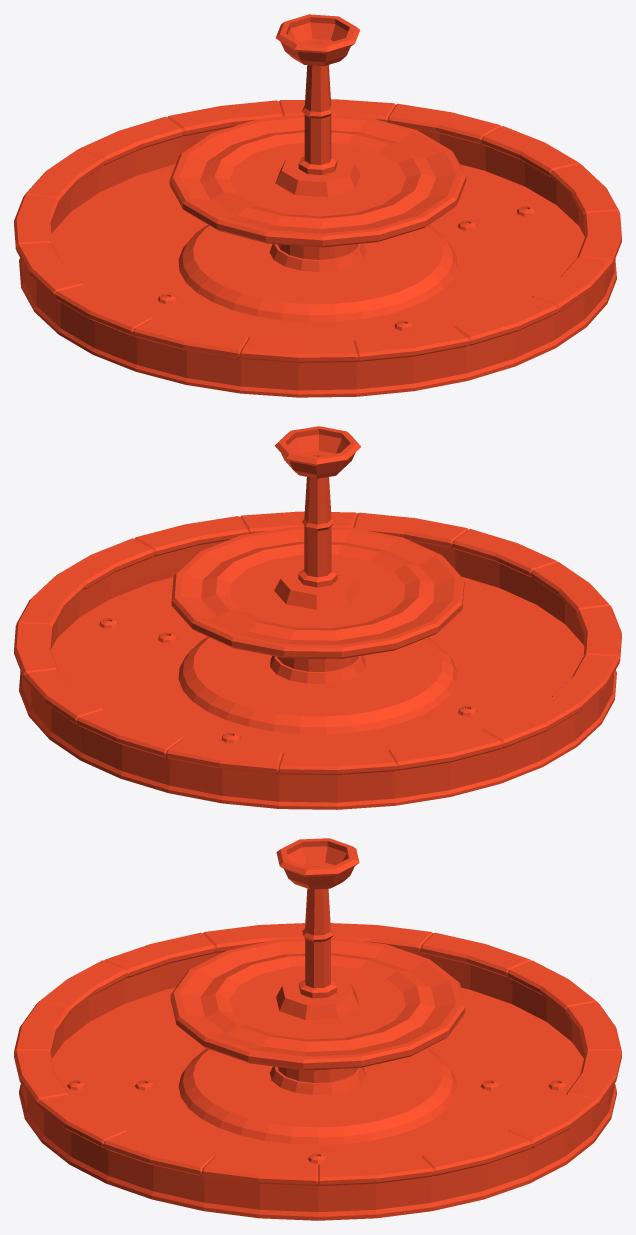
File: SM_Fontaine_City.fbx
The picture shows the model from 3 angles, top to bottom: view 1: azimuth 30°, elevation 25°; view 2: azimuth 150°, elevation 25°; view 3: azimuth 270°, elevation 25°; orthographic projection.
Parts seen in each view (by area): view 1: SM_Fontaine_City; view 2: SM_Fontaine_City; view 3: SM_Fontaine_City.
Part boxes in pixels (x1=…): SM_Fontaine_City: x1=14, y1=14, x2=621, y2=397; SM_Fontaine_City: x1=14, y1=426, x2=621, y2=809; SM_Fontaine_City: x1=14, y1=838, x2=621, y2=1220.
Bounding box in the file's own units: 5.63 × 2.46 × 5.63.
